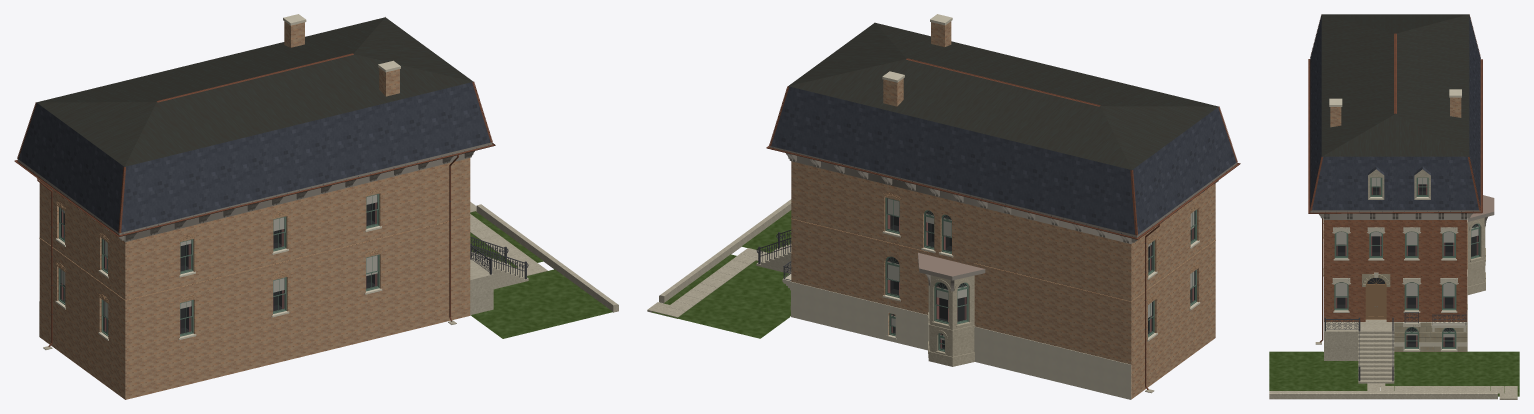
Rendered from jones_house_1834_prairie__as_mapped_1904.glb.
The picture shows the model from 3 angles, left to right: view 1: azimuth 30°, elevation 25°; view 2: azimuth 150°, elevation 25°; view 3: azimuth 270°, elevation 25°; orthographic projection. The views are drawn at different scales.
Visible parts, largest first — view 1: jones_house_1834_prairie__as_mapped_1904; view 2: jones_house_1834_prairie__as_mapped_1904; view 3: jones_house_1834_prairie__as_mapped_1904.
Boxes of the visible parts, x1,y1,x2,y2 form: jones_house_1834_prairie__as_mapped_1904: [14, 14, 618, 399]; jones_house_1834_prairie__as_mapped_1904: [647, 14, 1240, 399]; jones_house_1834_prairie__as_mapped_1904: [1269, 14, 1519, 399].
Bounding box in the file's own units: 30.77 × 16.27 × 16.71.
Materials: 28 (17 with a texture image).
